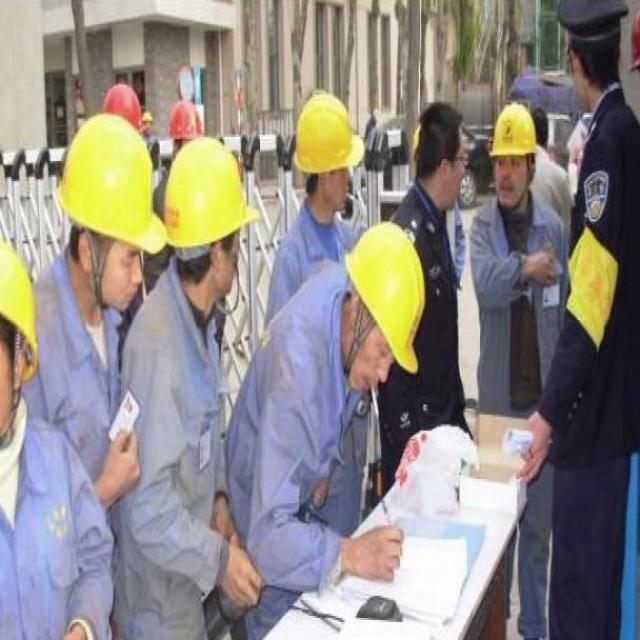helmet: (50, 109, 166, 314), (157, 110, 256, 314), (338, 207, 434, 380), (294, 89, 360, 208), (484, 102, 534, 200)
